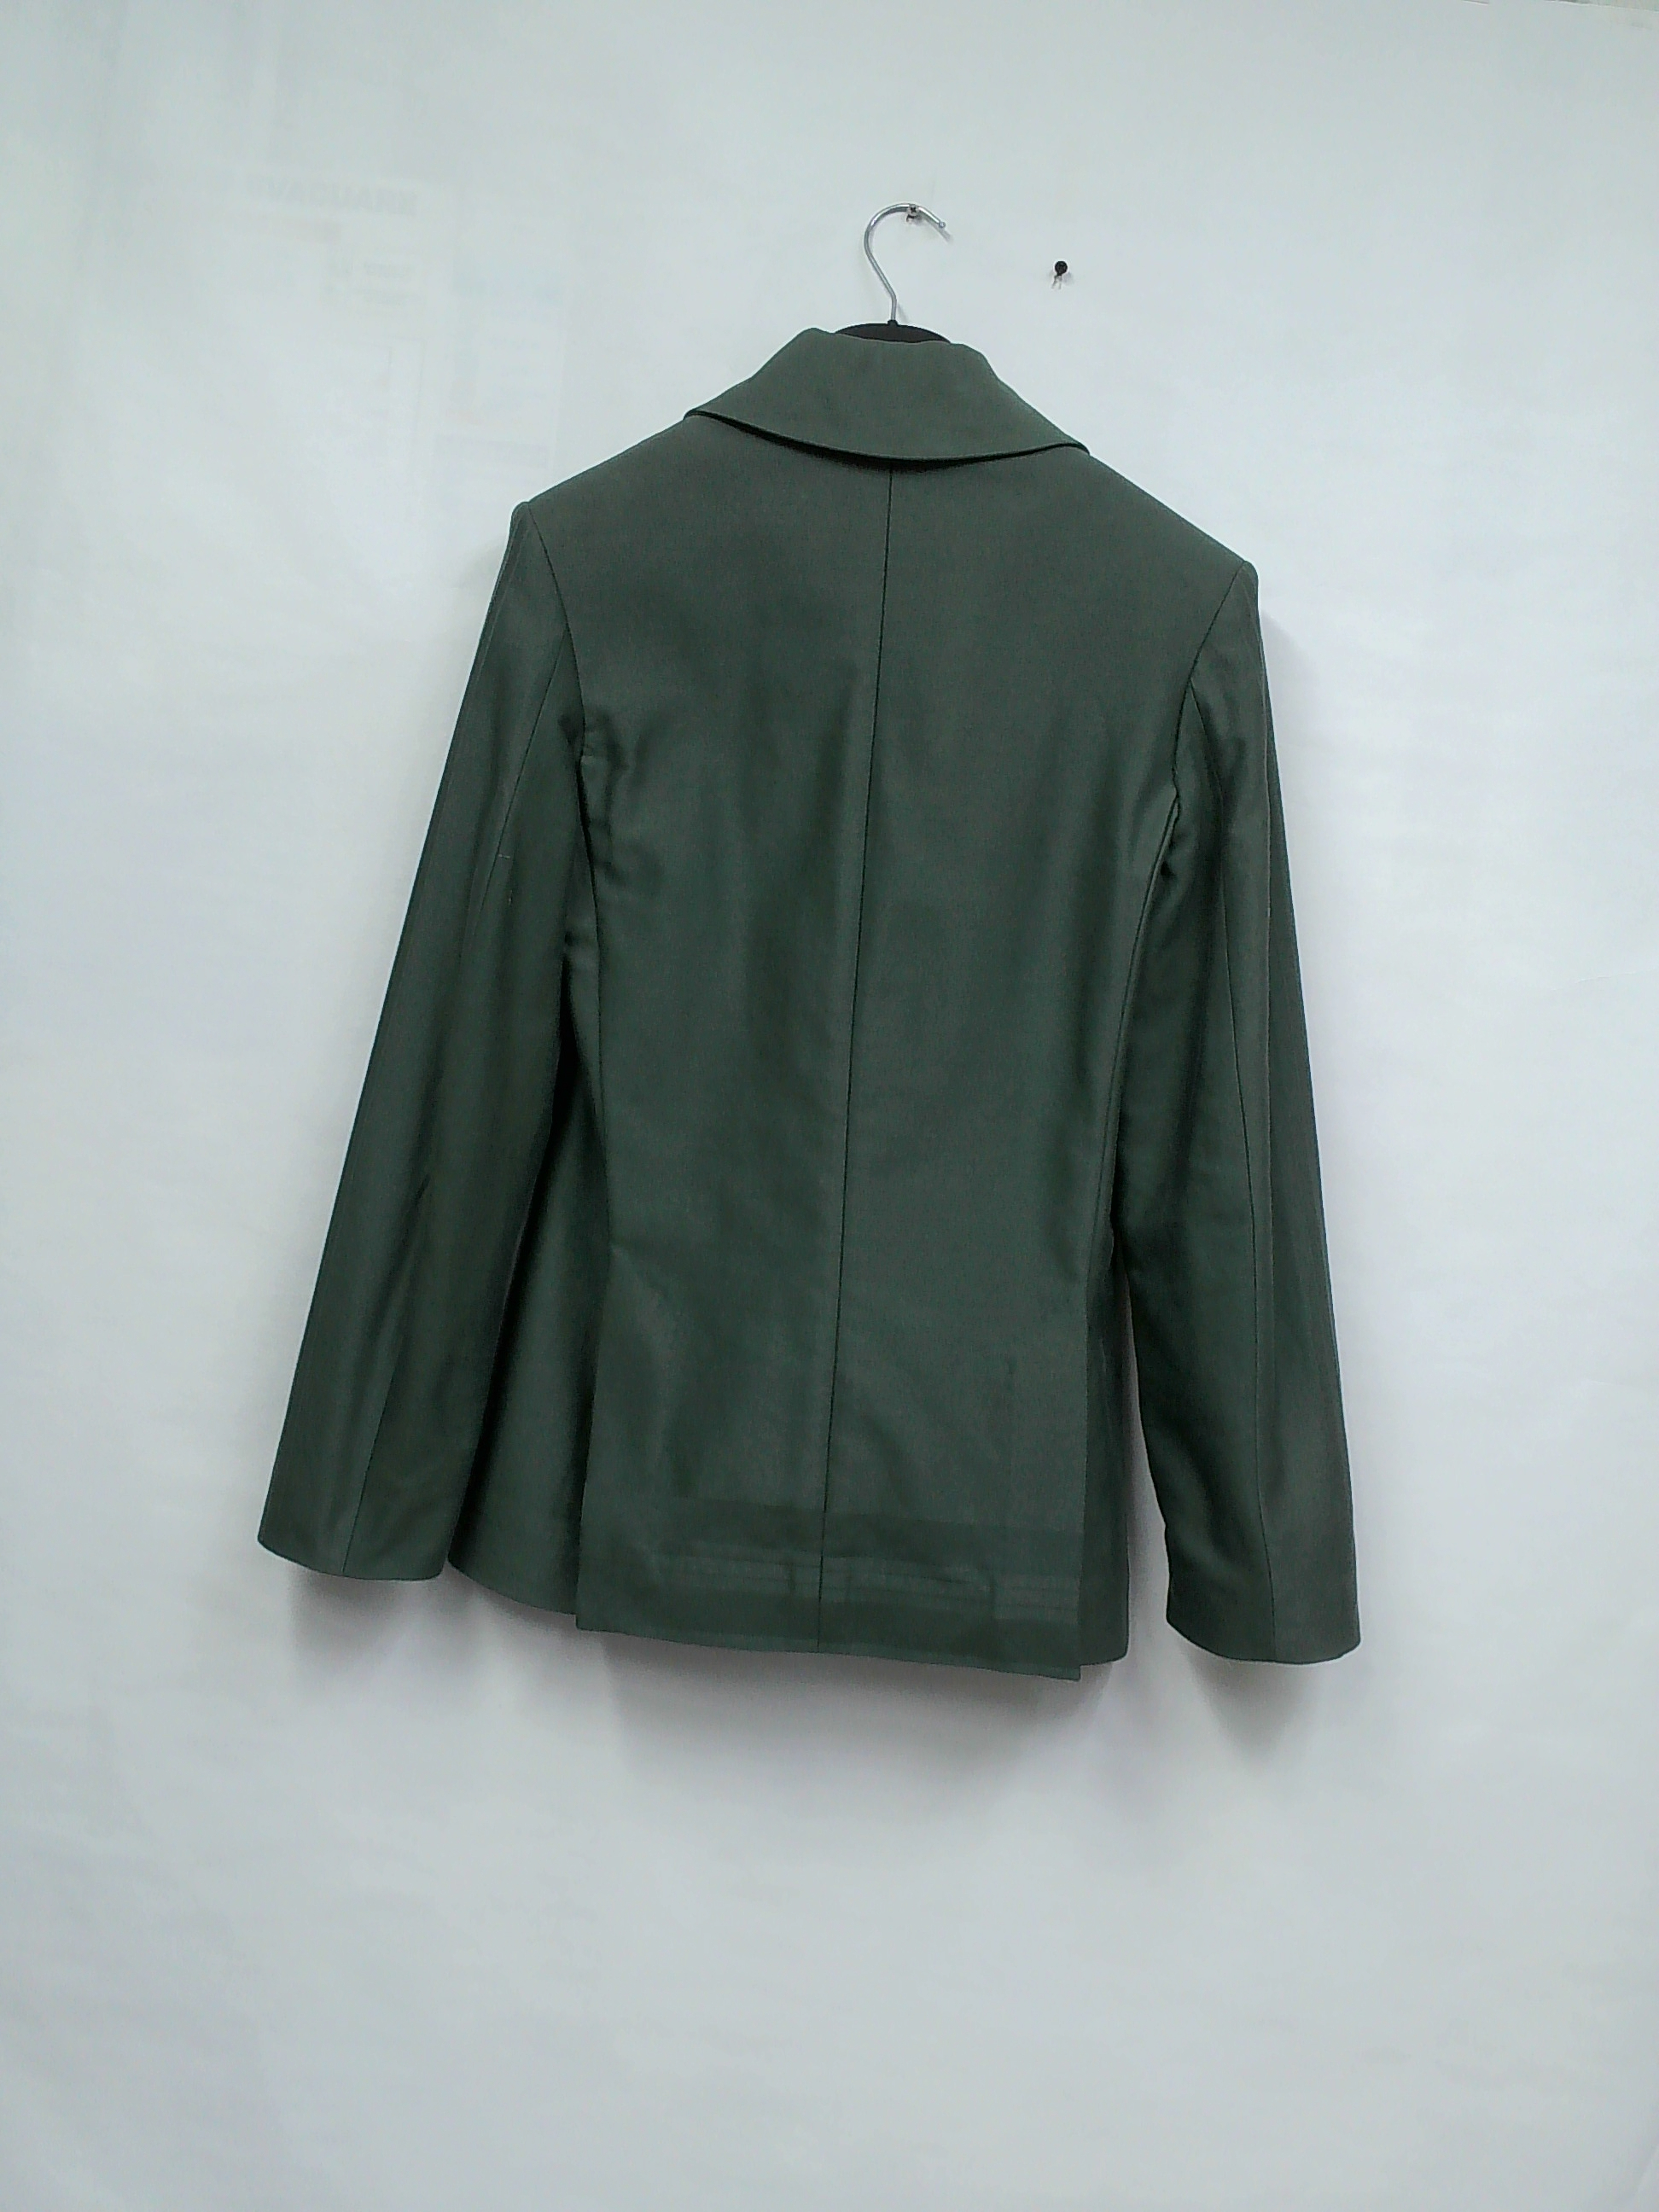seam: (537, 714, 645, 815)
